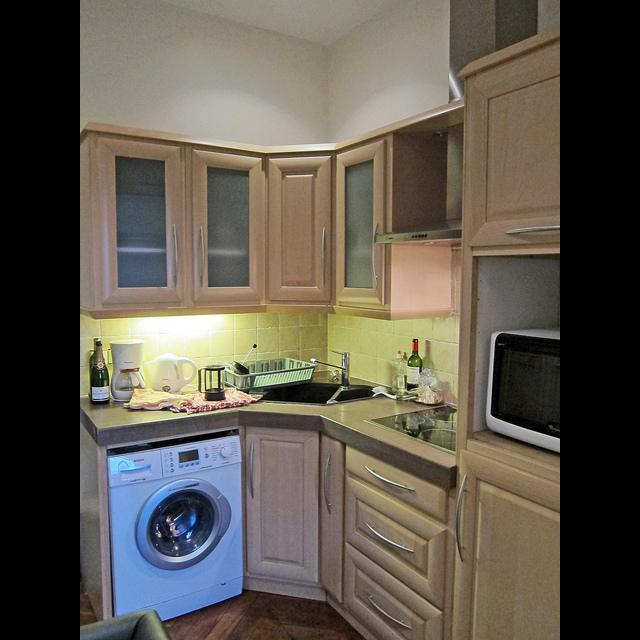Microwave: (483, 328, 560, 456)
